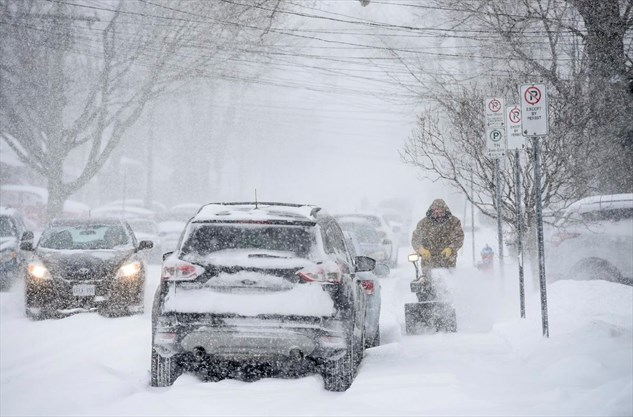car: (151, 199, 375, 393), (20, 213, 155, 319)
person: (406, 197, 464, 305)
